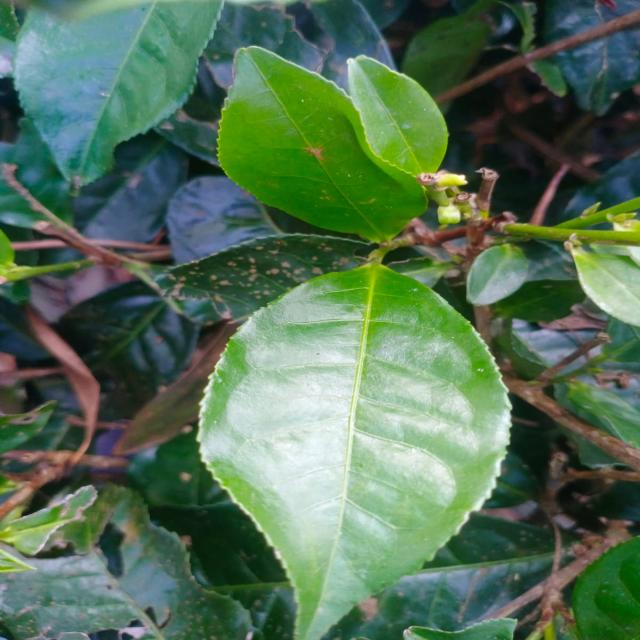Category D(7+ days, Not for Tea): (193, 245, 523, 640)
